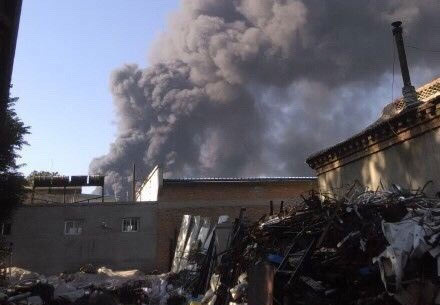smoke: (123, 2, 356, 150)
